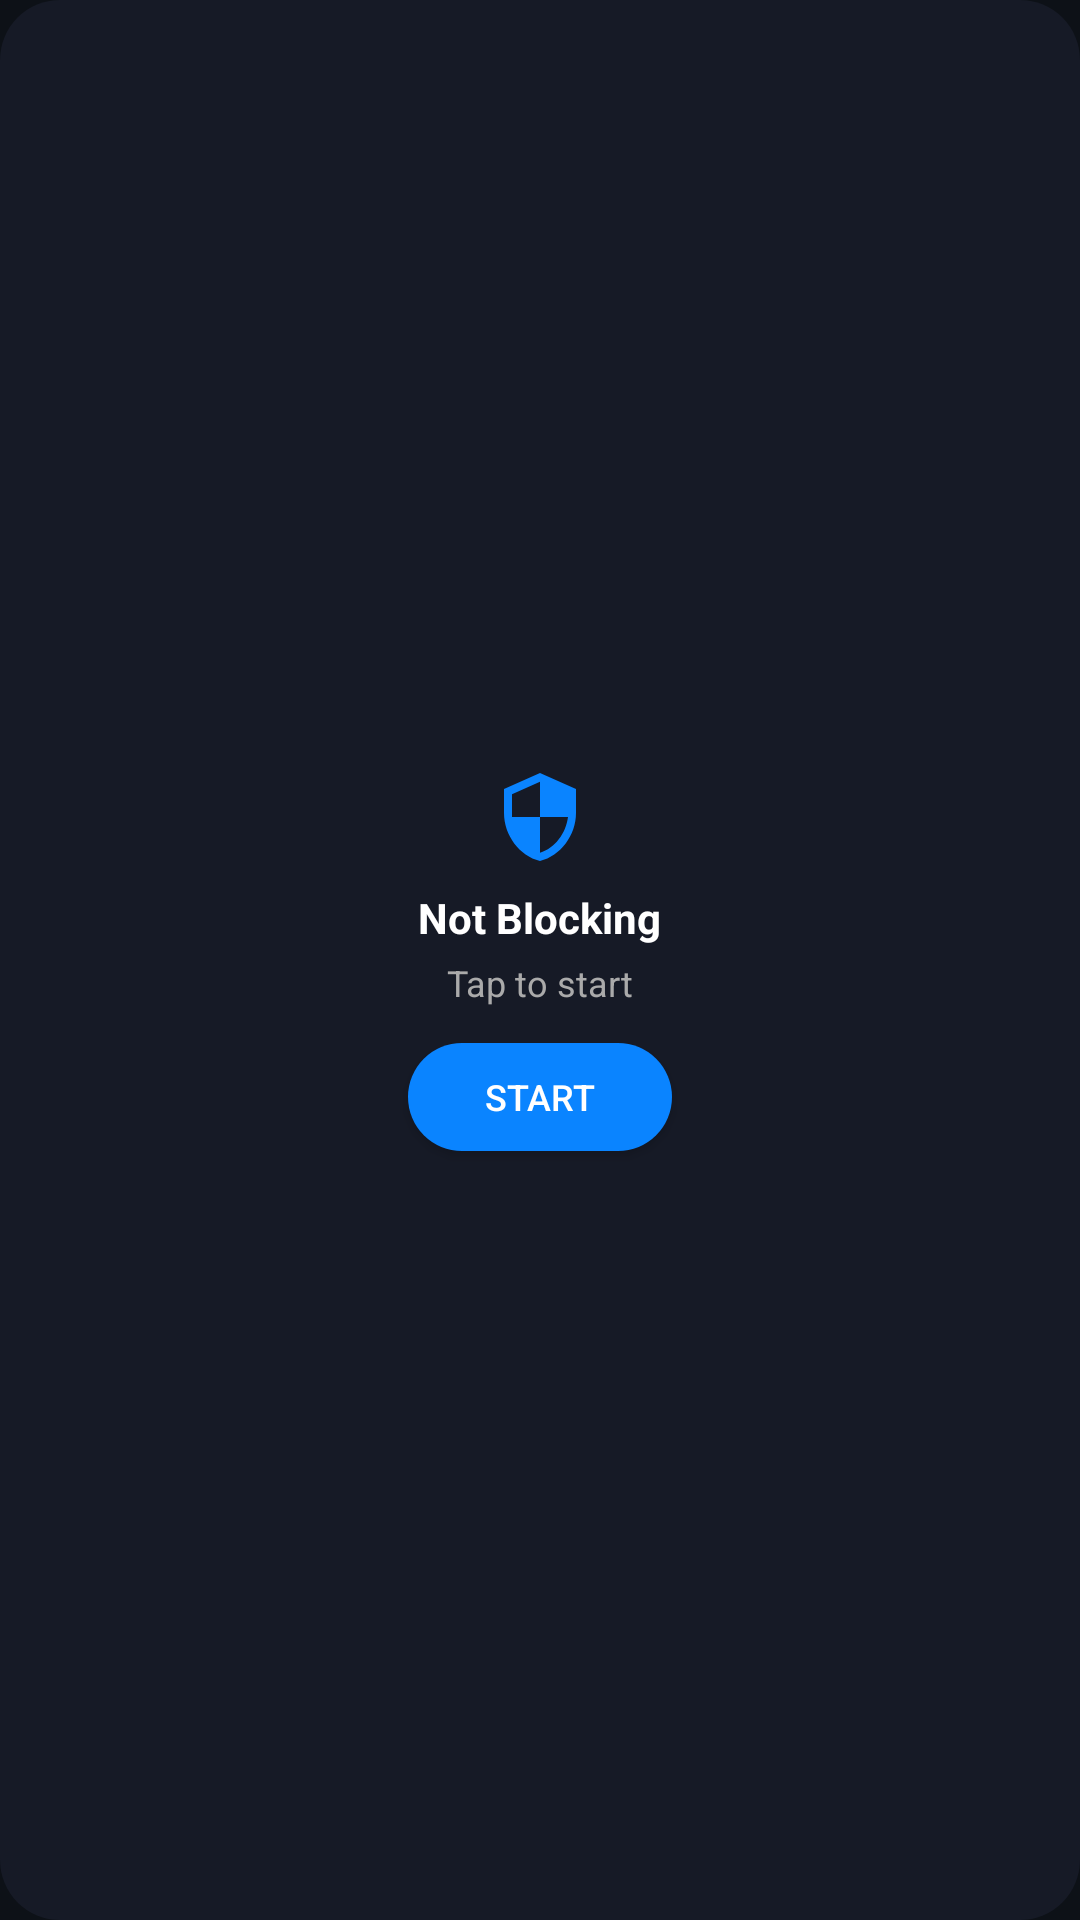

Icons on this 1080px×1920px Android screen, each with the point to tap as point (x, y):
shield: point (540, 817)
